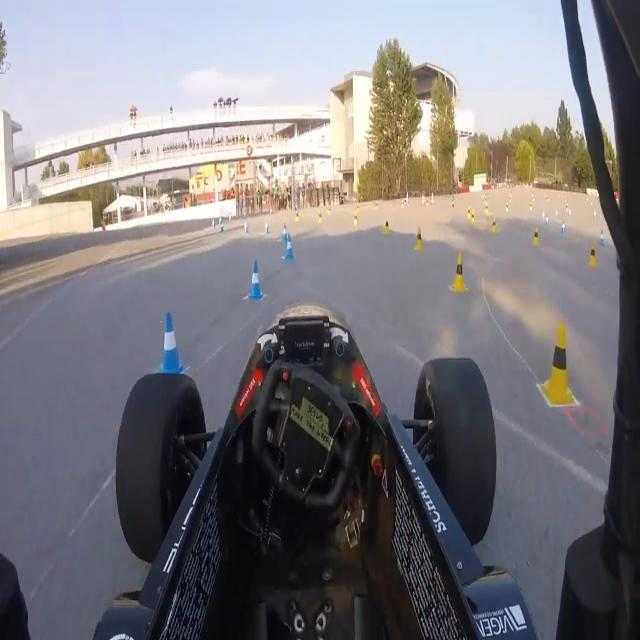blue_cone: (156, 310, 185, 376), (246, 256, 264, 300), (284, 234, 295, 260), (281, 224, 287, 242), (243, 221, 250, 234), (560, 220, 566, 235), (600, 229, 605, 246), (264, 220, 270, 234), (545, 214, 549, 226)
yellow_cone: (543, 323, 575, 408), (450, 250, 467, 292), (414, 226, 424, 252), (589, 244, 597, 267), (382, 216, 390, 236), (532, 228, 540, 246), (492, 215, 498, 234), (317, 209, 323, 224), (353, 212, 358, 228), (466, 206, 472, 219), (471, 210, 476, 224), (294, 212, 299, 223), (506, 203, 509, 213)
